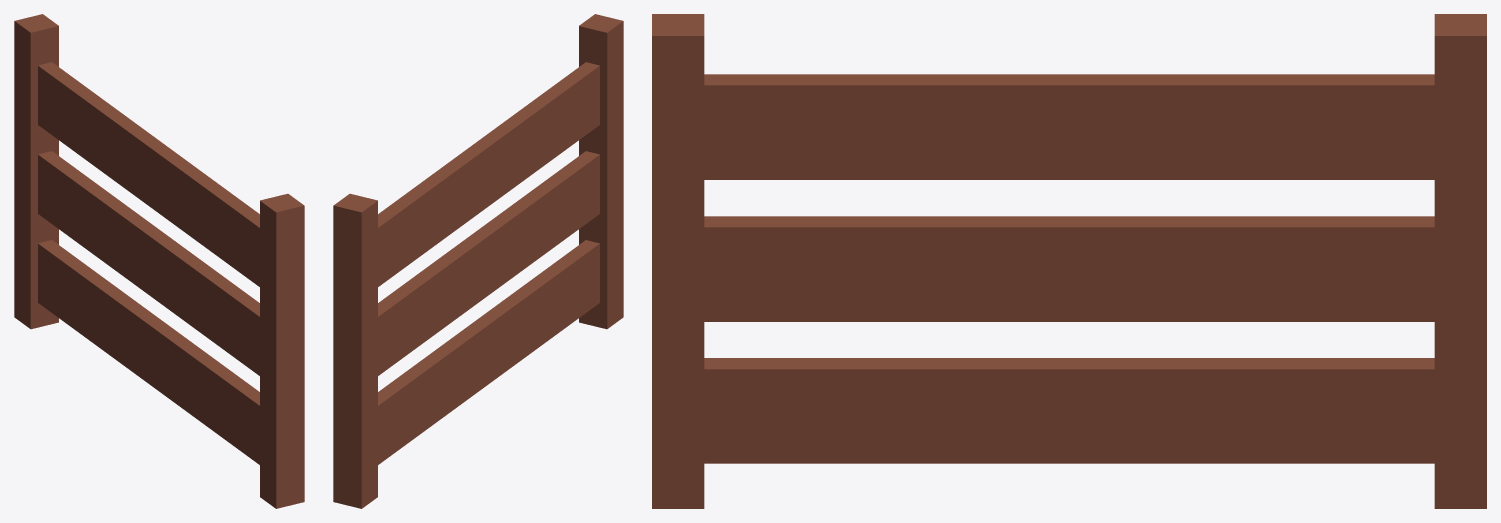
File: fence_01.fbx
The picture shows the model from 3 angles, left to right: view 1: azimuth 30°, elevation 25°; view 2: azimuth 150°, elevation 25°; view 3: azimuth 270°, elevation 25°; orthographic projection. The views are drawn at different scales.
Visible parts, largest first — view 1: fence; view 2: fence; view 3: fence.
Boxes of the visible parts, x1=… form: fence: x1=14, y1=14, x2=304, y2=508; fence: x1=333, y1=14, x2=623, y2=508; fence: x1=652, y1=14, x2=1486, y2=508.
Bounding box in the file's own units: 160 × 100 × 10.
